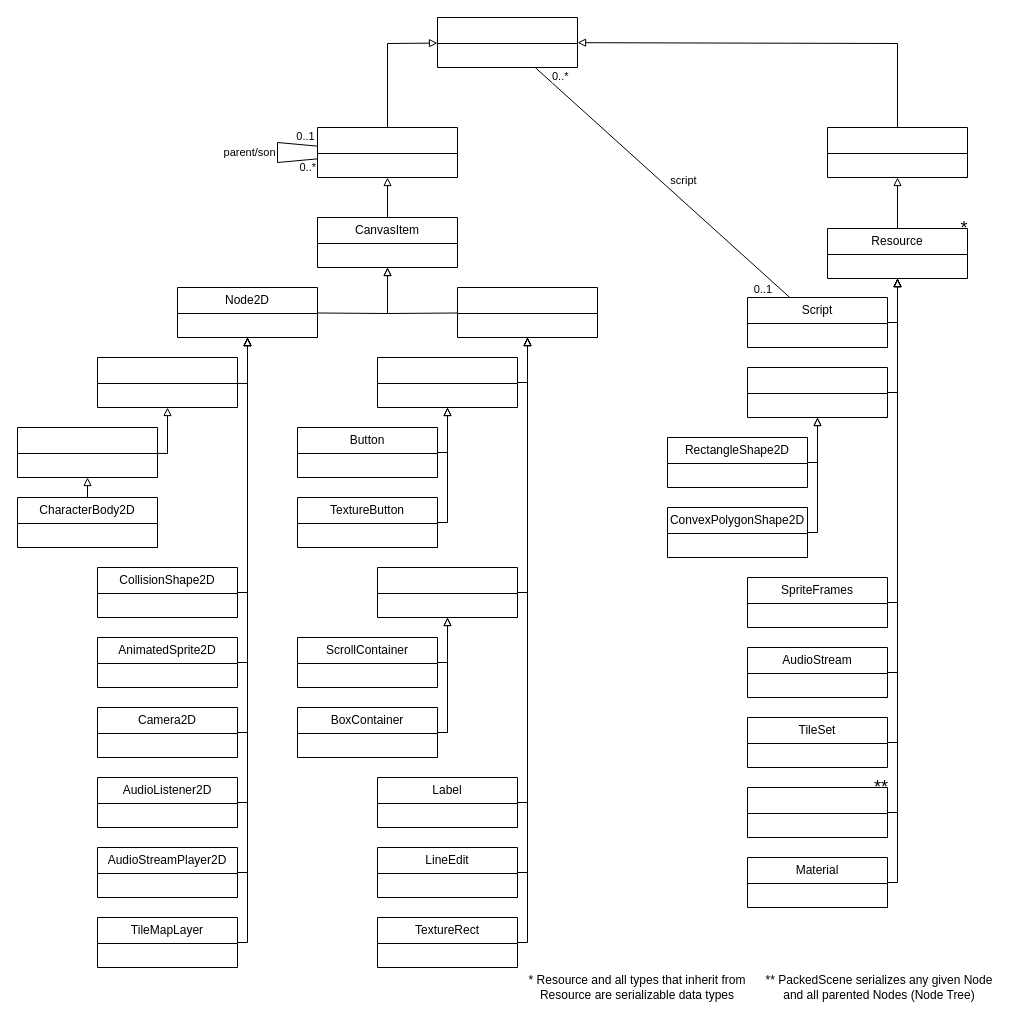
Some shapes in this 1012 by 1025 pixel diagram are drawn without their labels. The shapes that lost their labels are listed below. From the top down, each one's box as (x1, y1, x2, y2) in pixels, then its label:
(436, 16, 578, 68): Object
(316, 126, 458, 178): Node
(826, 126, 968, 178): RefCounted
(456, 286, 598, 338): Control
(96, 356, 238, 408): CollisionObject2D
(376, 356, 518, 408): BaseButton
(746, 366, 888, 418): Shape2D
(16, 426, 158, 478): PhysicsBody2D
(376, 566, 518, 618): Container
(746, 786, 888, 838): PackedScene
